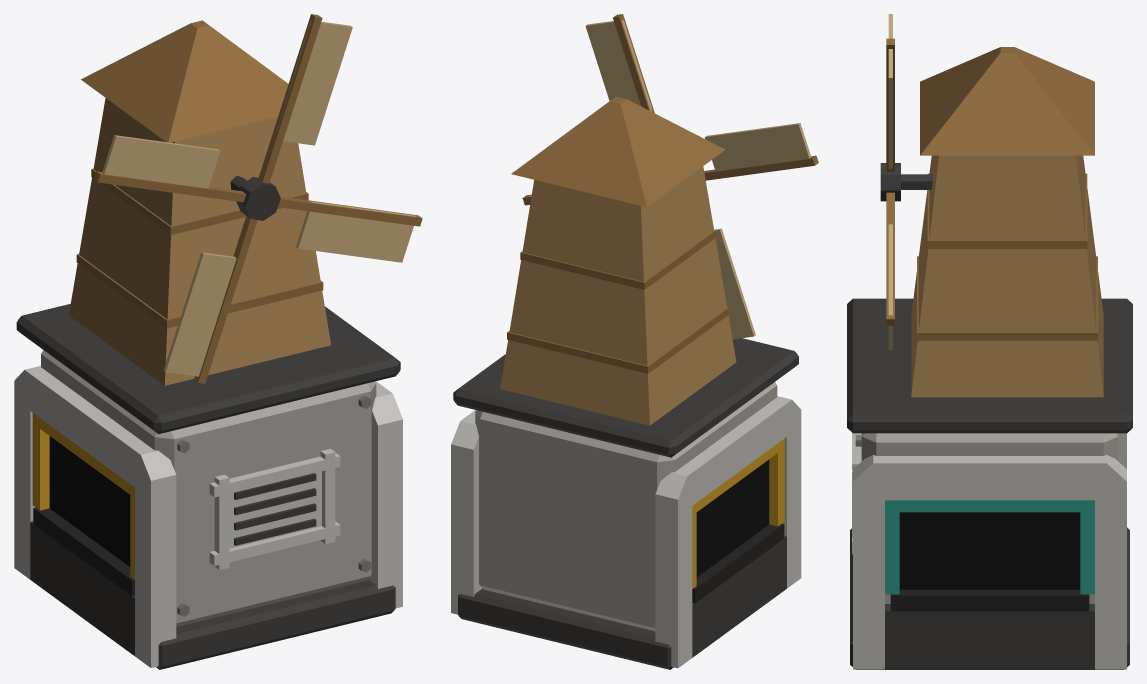
File: mill.fbx
3 renders of one model, left to right at view 1: azimuth 30°, elevation 25°; view 2: azimuth 150°, elevation 25°; view 3: azimuth 270°, elevation 25°, orthographic. The views are drawn at different scales.
Parts seen in each view (by area): view 1: mill; view 2: mill; view 3: mill.
Part boxes in pixels (x1,y1,x2,y2): mill: (14,14,422,669); mill: (451,14,818,669); mill: (847,14,1132,669).
Size of the model in its own units: 3.86 by 6.82 by 2.94.
